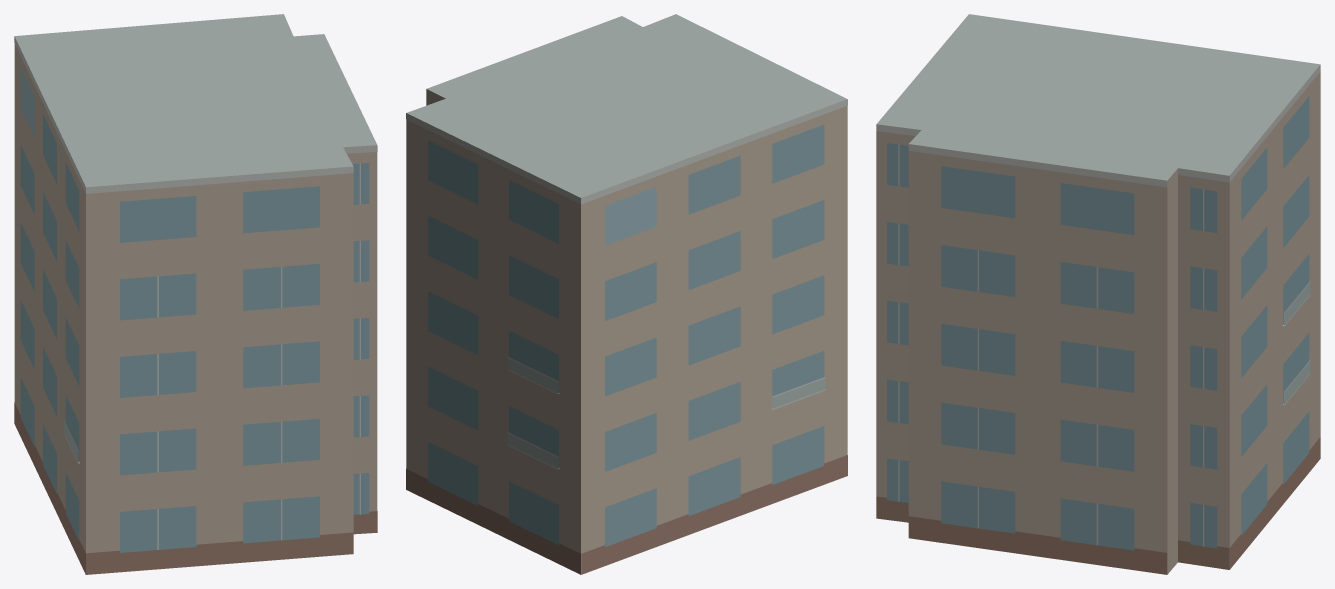
The model's file is survey-upis-32713097.glb.
The picture shows the model from 3 angles, left to right: view 1: azimuth 30°, elevation 25°; view 2: azimuth 150°, elevation 25°; view 3: azimuth 270°, elevation 25°; orthographic projection. The views are drawn at different scales.
Visible parts, largest first — view 1: survey-upis-32713097.tmp; view 2: survey-upis-32713097.tmp; view 3: survey-upis-32713097.tmp.
Boxes of the visible parts, x1=… form: survey-upis-32713097.tmp: x1=14, y1=14, x2=377, y2=574; survey-upis-32713097.tmp: x1=406, y1=14, x2=847, y2=574; survey-upis-32713097.tmp: x1=876, y1=14, x2=1320, y2=574.
Bounding box in the file's own units: 12.89 × 14.2 × 14.52.
